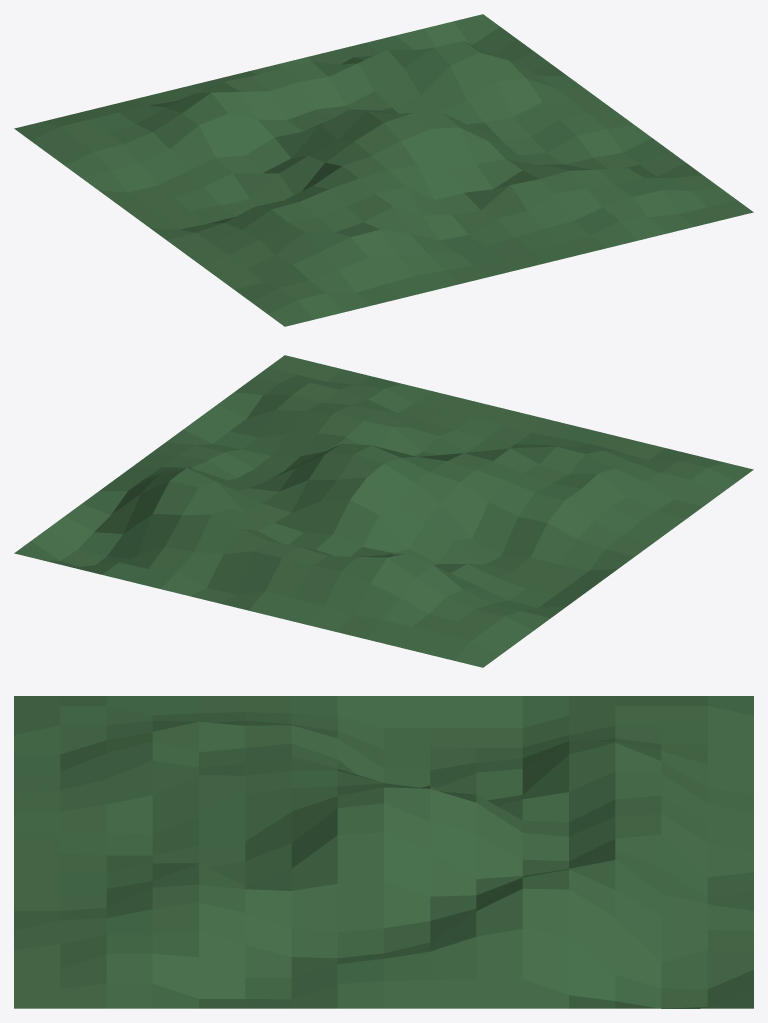
The model's file is Terrain_26_Light_Green.fbx.
3 views of the same model, one above another, from view 1: azimuth 30°, elevation 25°; view 2: azimuth 150°, elevation 25°; view 3: azimuth 270°, elevation 25° (orthographic). The views are drawn at different scales.
Visible parts, largest first — view 1: Terrain_26_Light_Green; view 2: Terrain_26_Light_Green; view 3: Terrain_26_Light_Green.
Part boxes in pixels (x1,y1,x2,y2): Terrain_26_Light_Green: (14, 14, 753, 326); Terrain_26_Light_Green: (14, 355, 753, 667); Terrain_26_Light_Green: (14, 696, 753, 1008).
Size of the model in its own units: 5000 by 676 by 5000.
